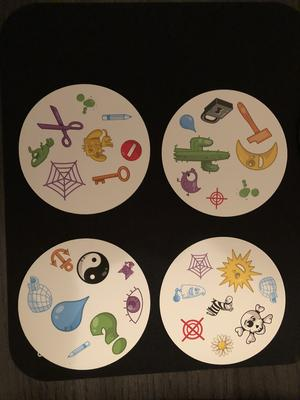araignee: (203, 291, 236, 318)
bonhomme: (48, 246, 75, 274)
cible: (175, 312, 207, 343), (204, 183, 228, 207)
goutte: (49, 291, 89, 333)
sens_interdit: (118, 135, 142, 164)
tete_mort: (235, 303, 274, 343)
toile: (186, 249, 213, 281)
ying_yang: (74, 249, 113, 287)
